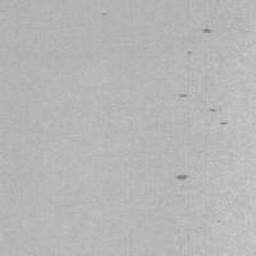Inclusion: (175, 174, 189, 180), (178, 93, 189, 99), (202, 28, 212, 33)
